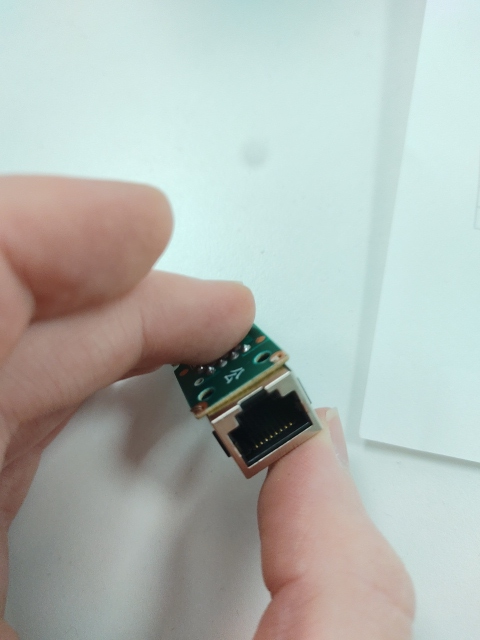Ethernet: (230, 379, 313, 467)
